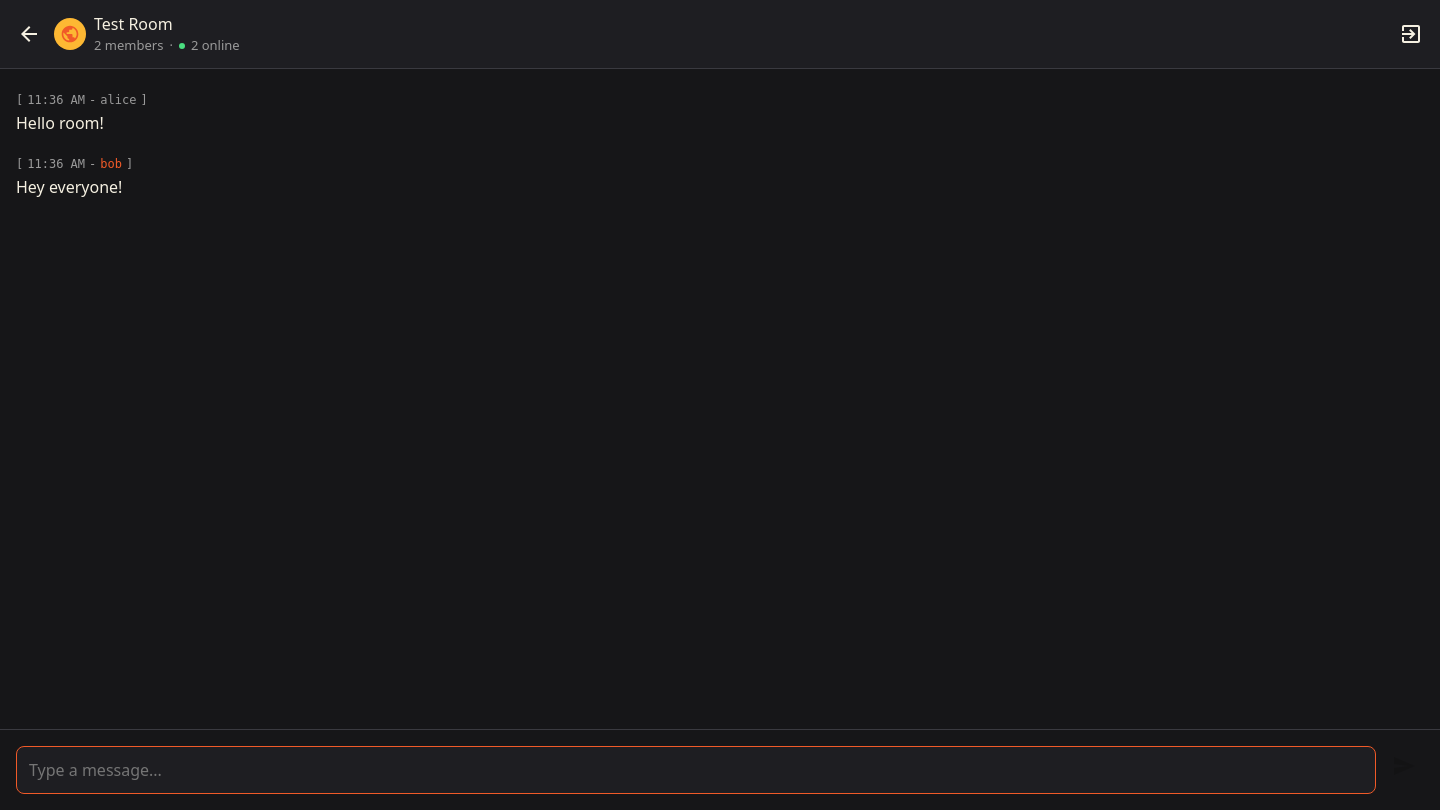
Test case: RoomChat component › leave room › closes dialog when cancelled
Click the button named "leave room": (1411, 34) [1394,17,1428,51]
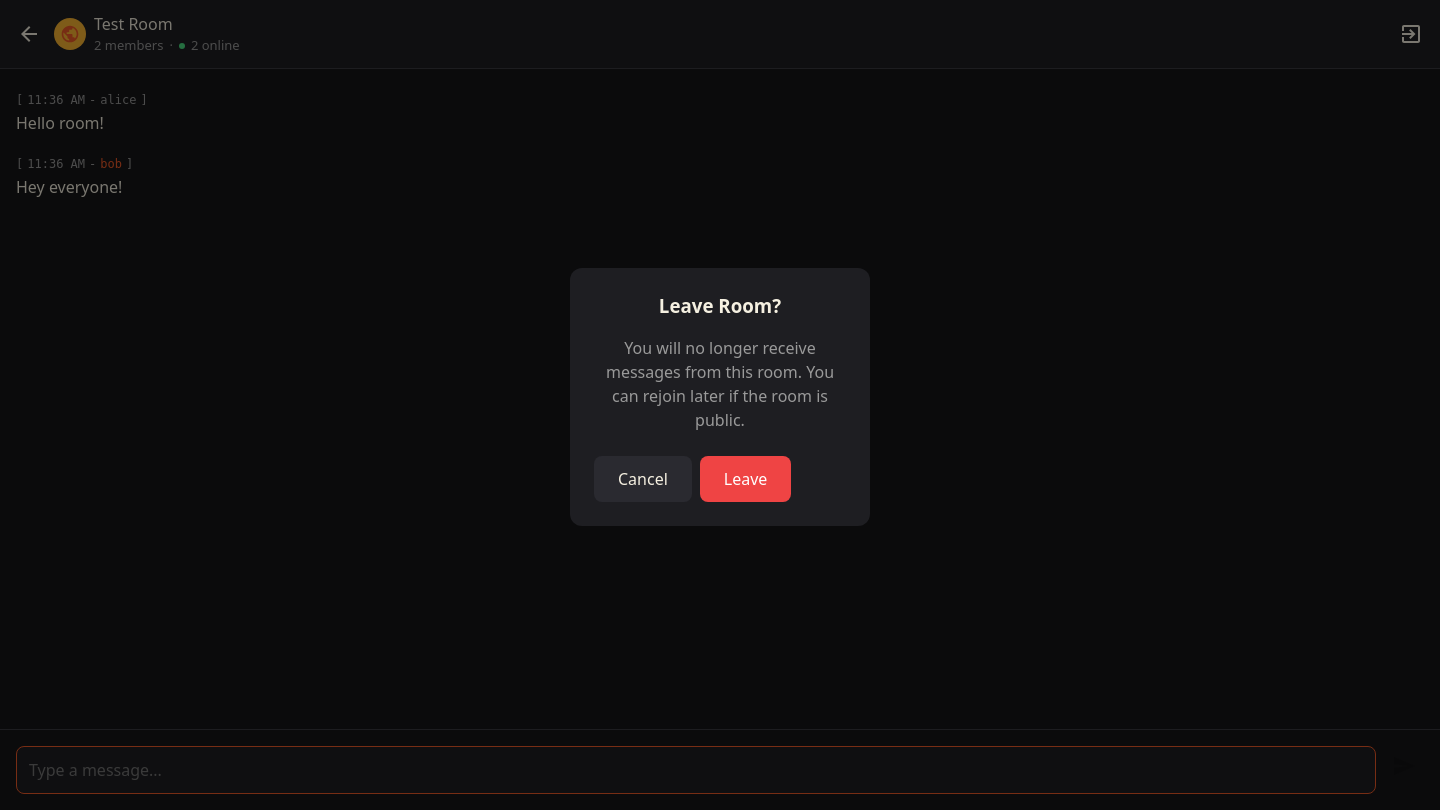
Click the button "Cancel": (643, 479) [594,456,692,502]
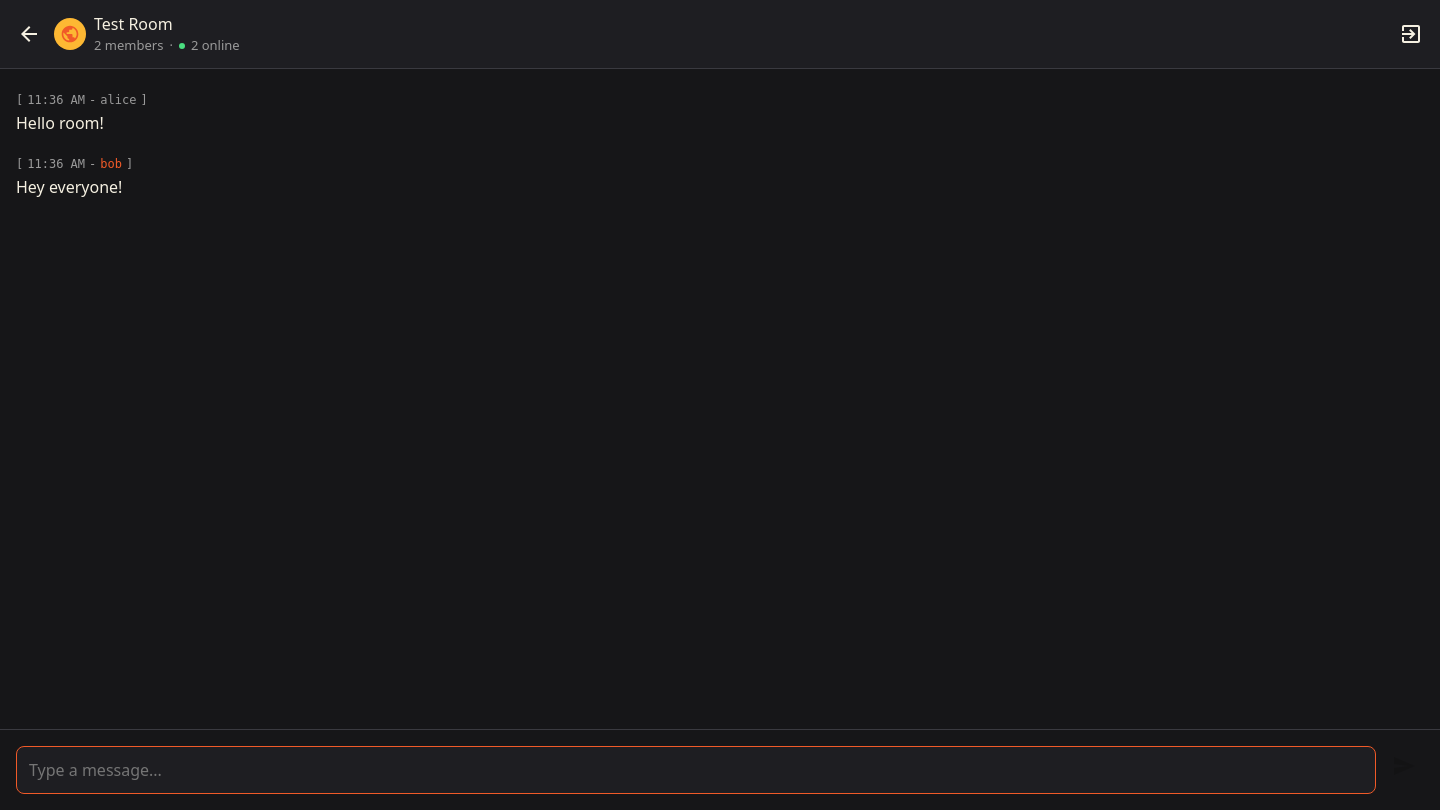
Result: the heading "Leave Room?" is gone
